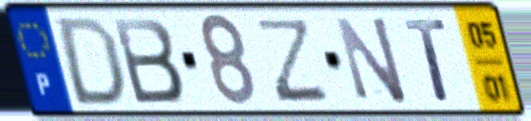8: (199, 11, 258, 110)
B: (108, 15, 187, 106)
D: (55, 13, 128, 109)
N: (331, 13, 412, 107)
T: (401, 16, 453, 105)
Z: (256, 16, 332, 105)
